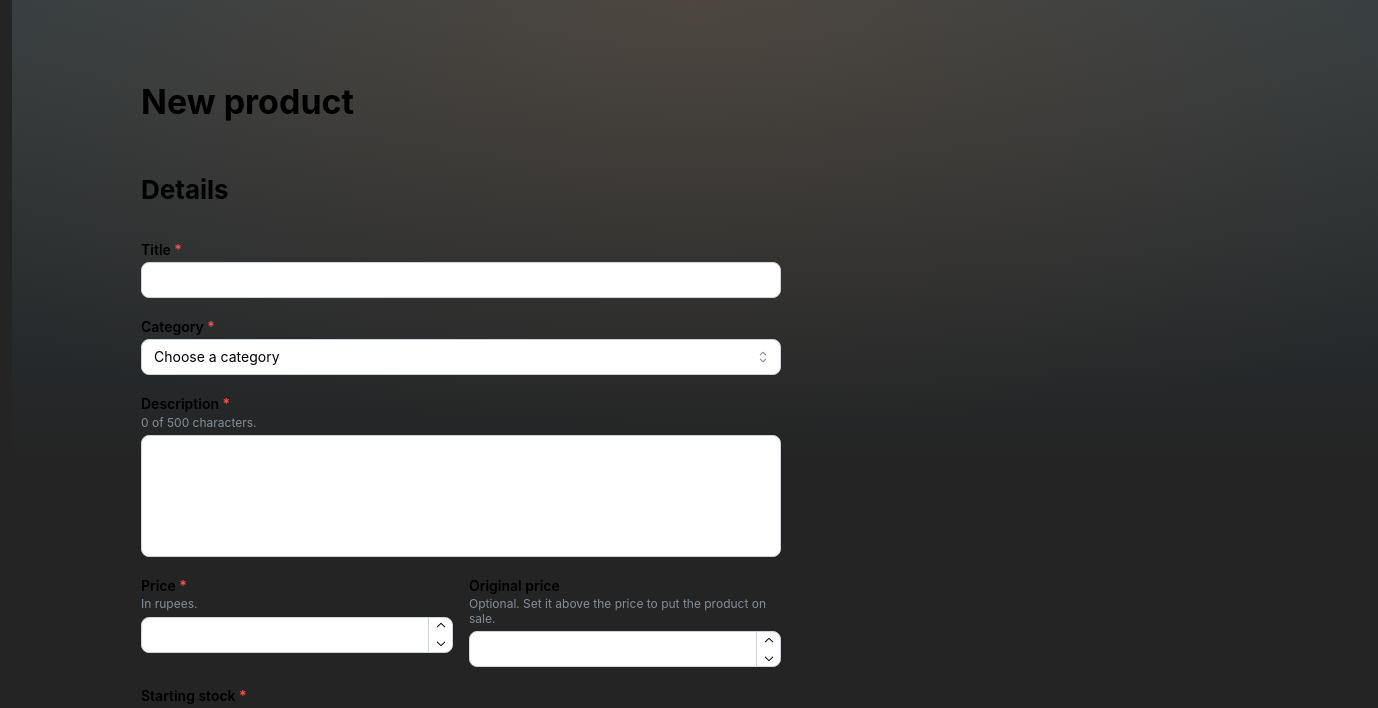
it: new product › requires the original price to be higher than the price
In the field labelled "Price": (297, 635) [141,617,453,653], type "200"
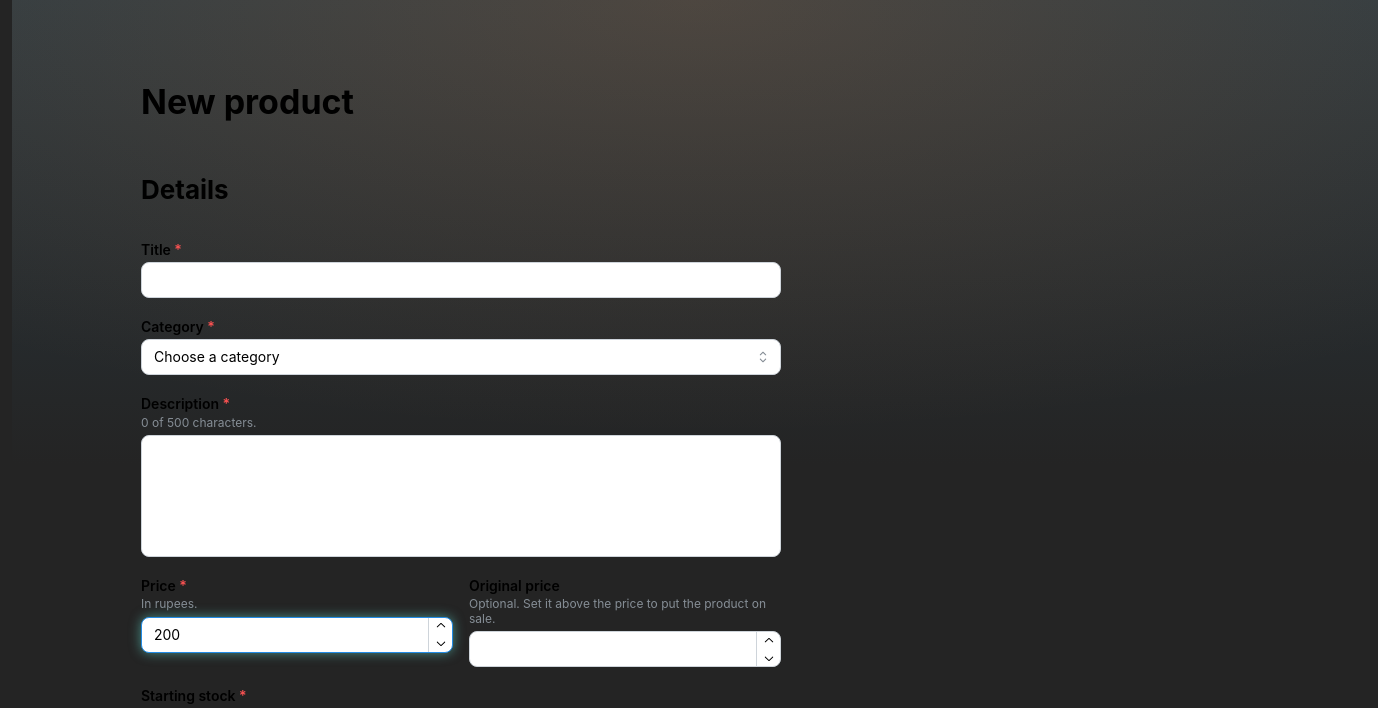
In the field labelled "Original price": (625, 649) [469,631,781,667], type "150"
(page scrolled)
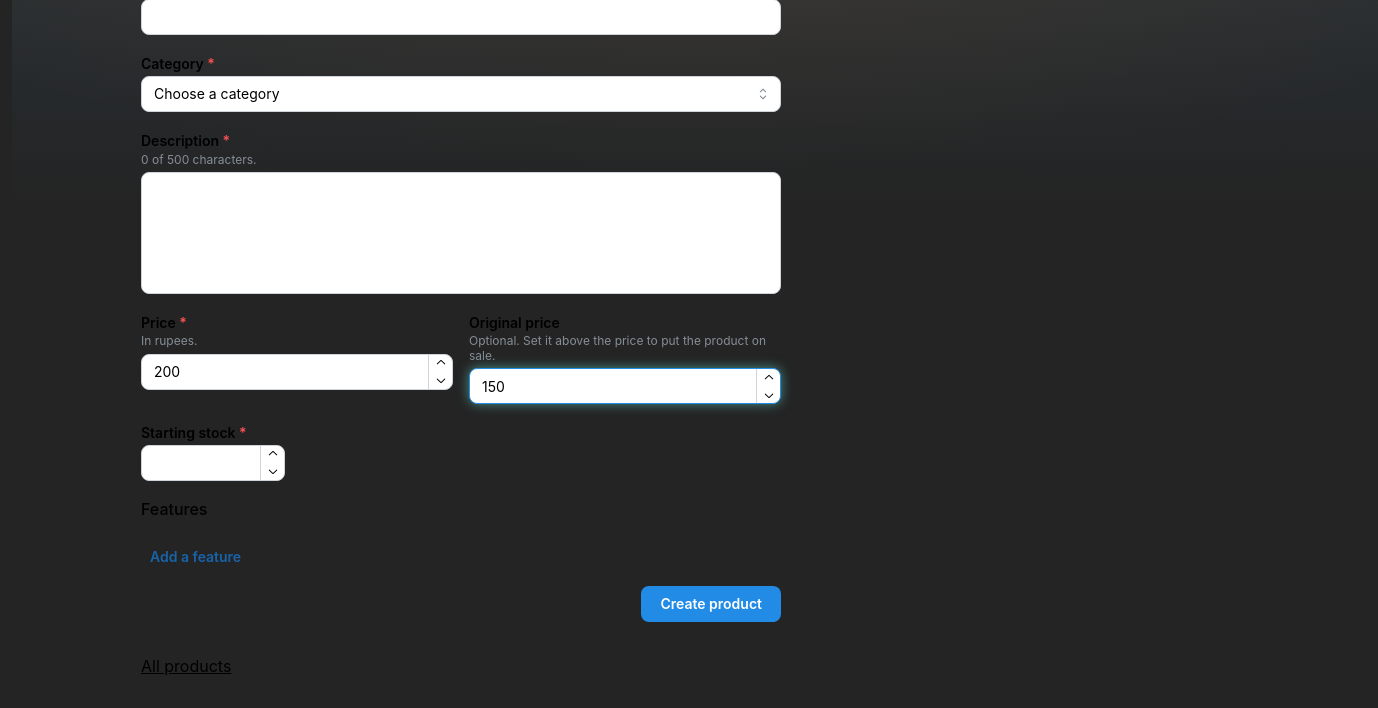
Click the button "Create product": (711, 604) [641,586,781,622]
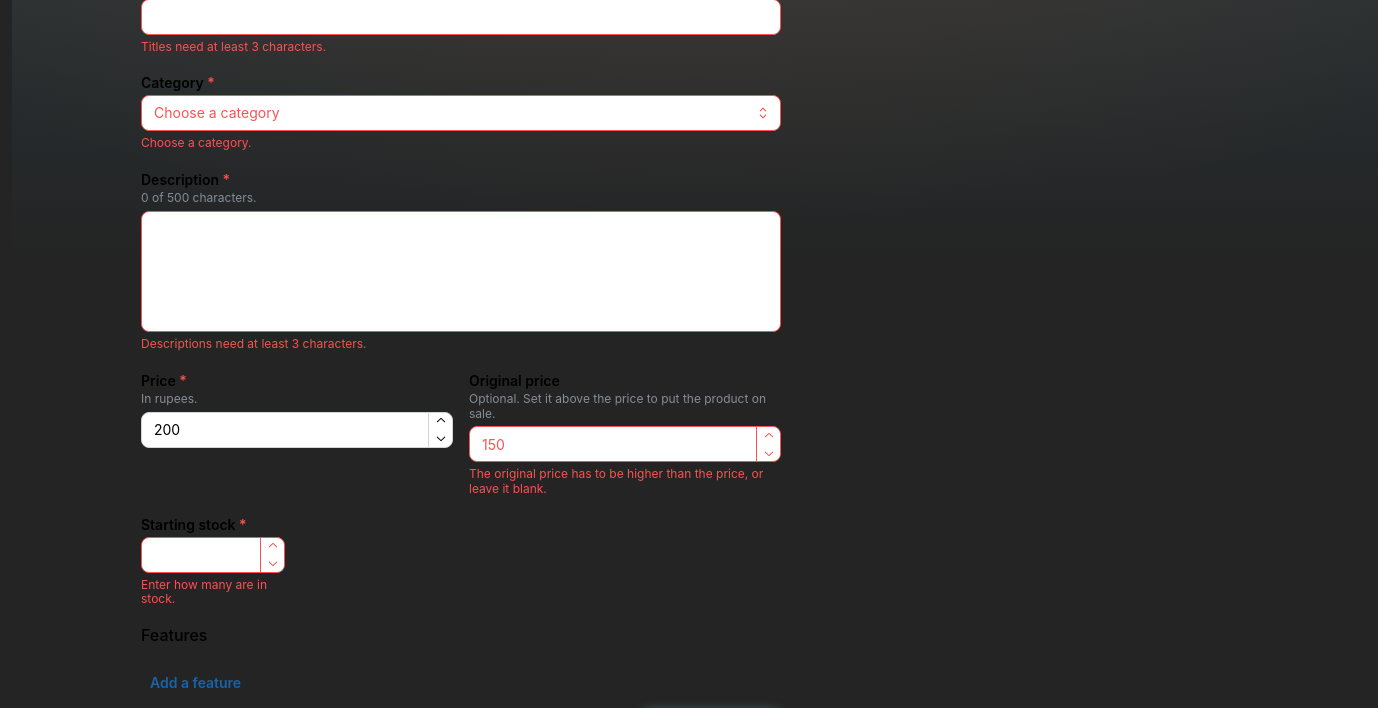
Now the text "The original price has to be higher than the price, or leave it blank." is shown, box [469,467,781,496]
